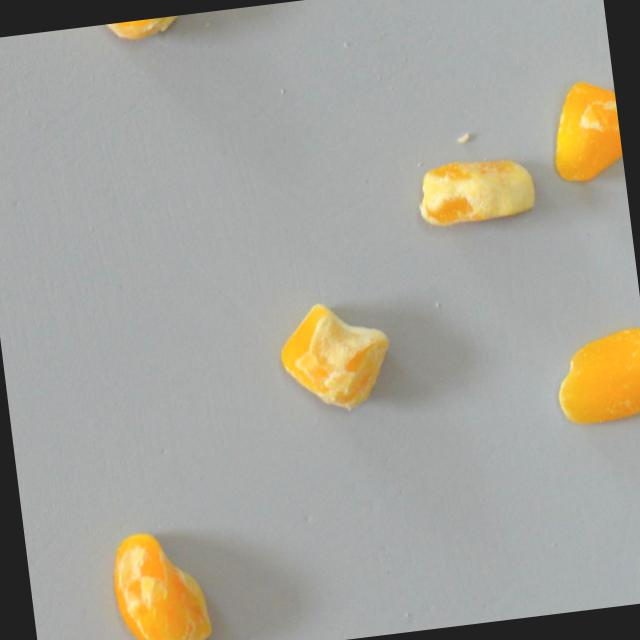dañado: (270, 288, 403, 424), (105, 515, 218, 640), (409, 148, 543, 230), (547, 318, 640, 434), (540, 74, 625, 191), (61, 12, 205, 55)
